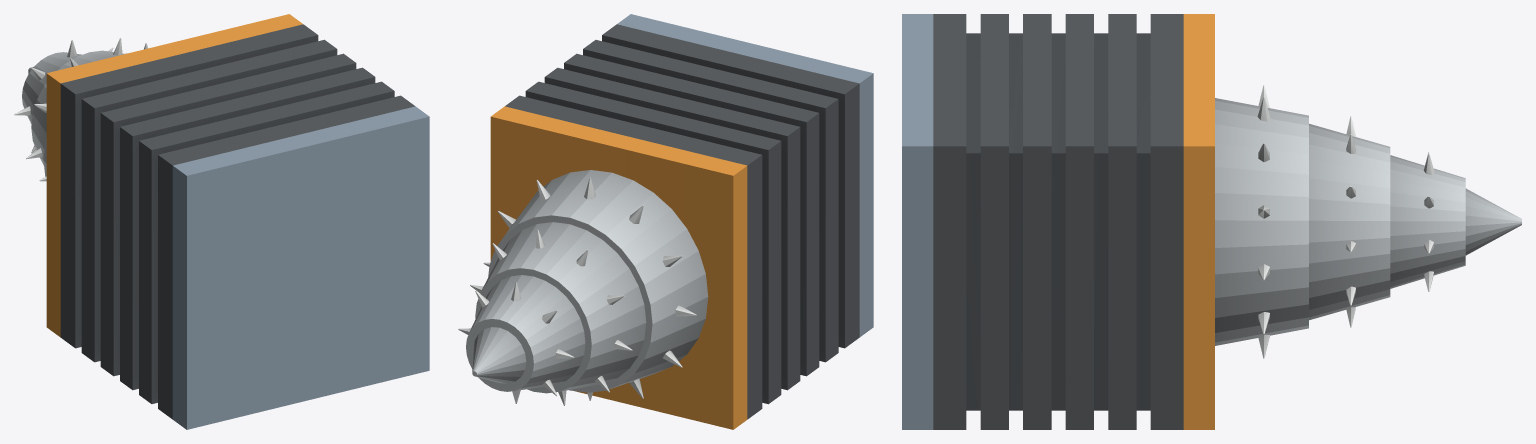
The picture shows the model from 3 angles, left to right: view 1: azimuth 30°, elevation 25°; view 2: azimuth 150°, elevation 25°; view 3: azimuth 270°, elevation 25°; orthographic projection. The views are drawn at different scales.
Visible parts, largest first — view 1: Body, Head; view 2: Body, Head; view 3: Body, Head.
Boxes of the visible parts, bbox=[...] form: Body: bbox=[46, 14, 429, 429]; Head: bbox=[14, 38, 147, 181]; Body: bbox=[490, 14, 873, 429]; Head: bbox=[458, 170, 708, 405]; Body: bbox=[902, 14, 1214, 429]; Head: bbox=[1215, 85, 1521, 358].
Bounding box in the file's own units: 1 × 1 × 1.98.
